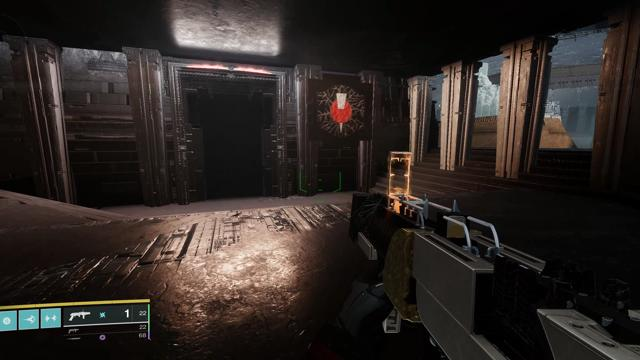kill: (316, 84, 365, 138)
